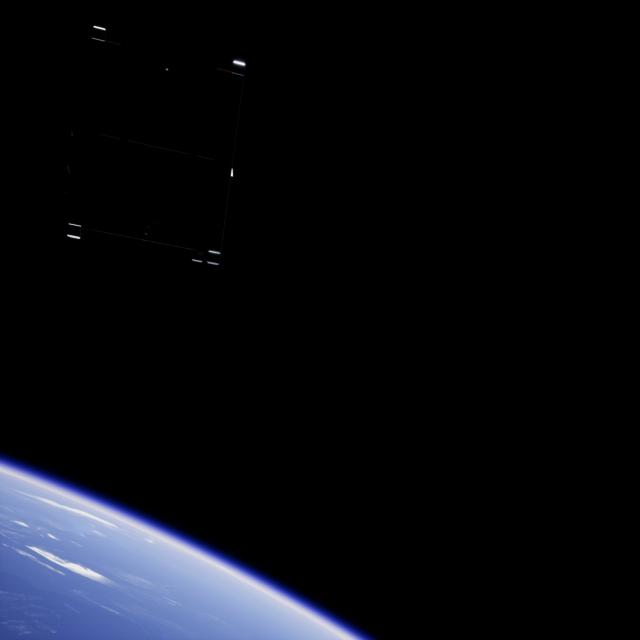medium_debris: (57, 24, 266, 264)
